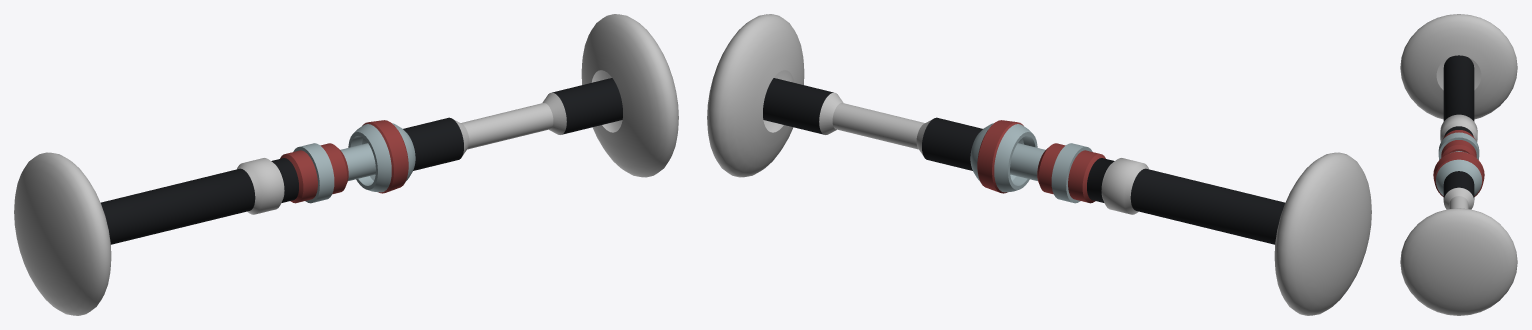
3 views of the same model, side by side, from view 1: azimuth 30°, elevation 25°; view 2: azimuth 150°, elevation 25°; view 3: azimuth 270°, elevation 25° (orthographic). The views are drawn at different scales.
Parts seen in each view (by area): view 1: AU; view 2: AU; view 3: AU.
Part boxes in pixels (left/top/right/bottom): AU: left=14, top=14, right=678, bottom=315; AU: left=707, top=14, right=1371, bottom=315; AU: left=1400, top=14, right=1517, bottom=315.
Size of the model in its own units: 1165 by 273 by 273.
